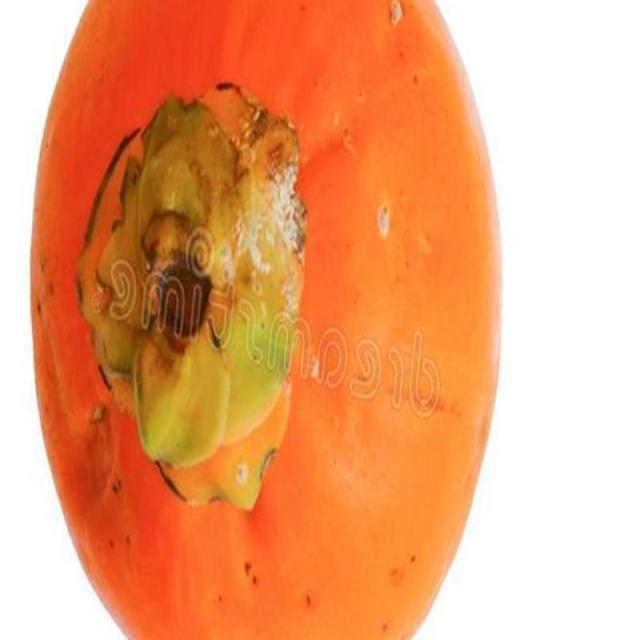good: (28, 0, 506, 639)
